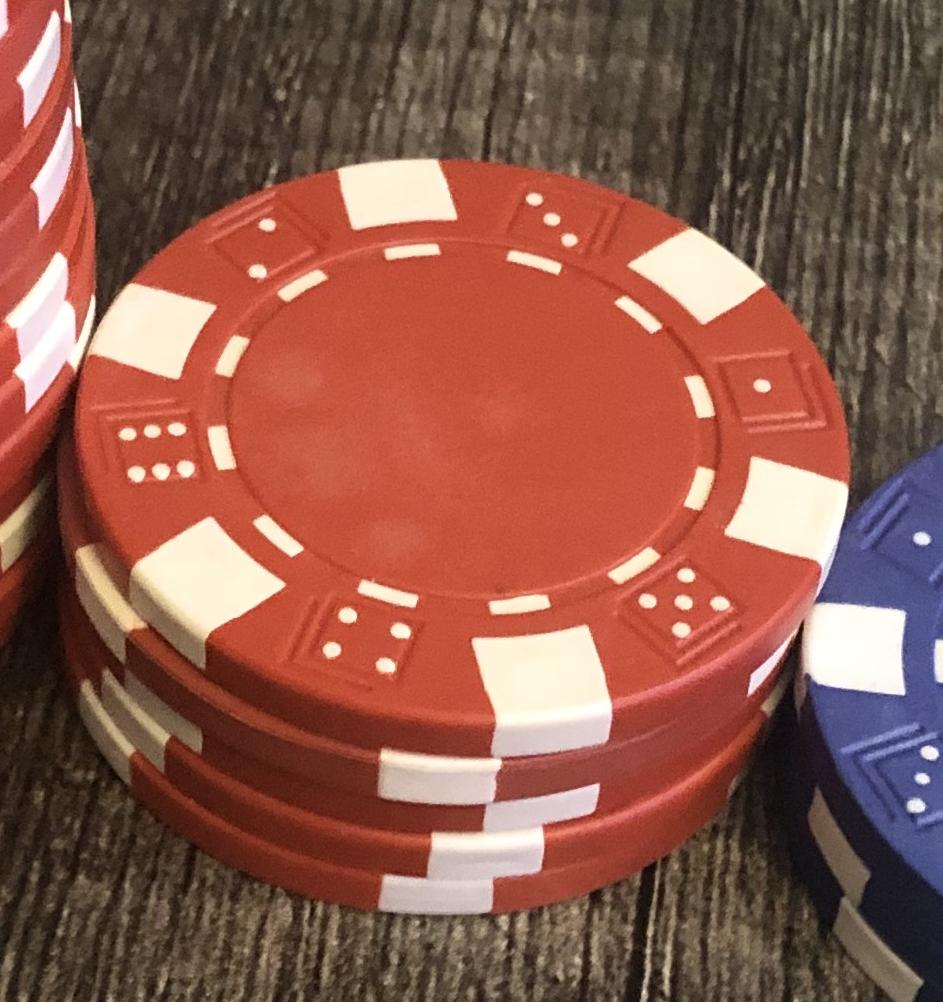Chip: (1, 1, 943, 1002)
